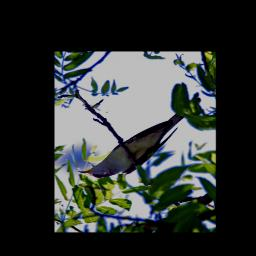Cuckoo: (78, 97, 201, 179)
